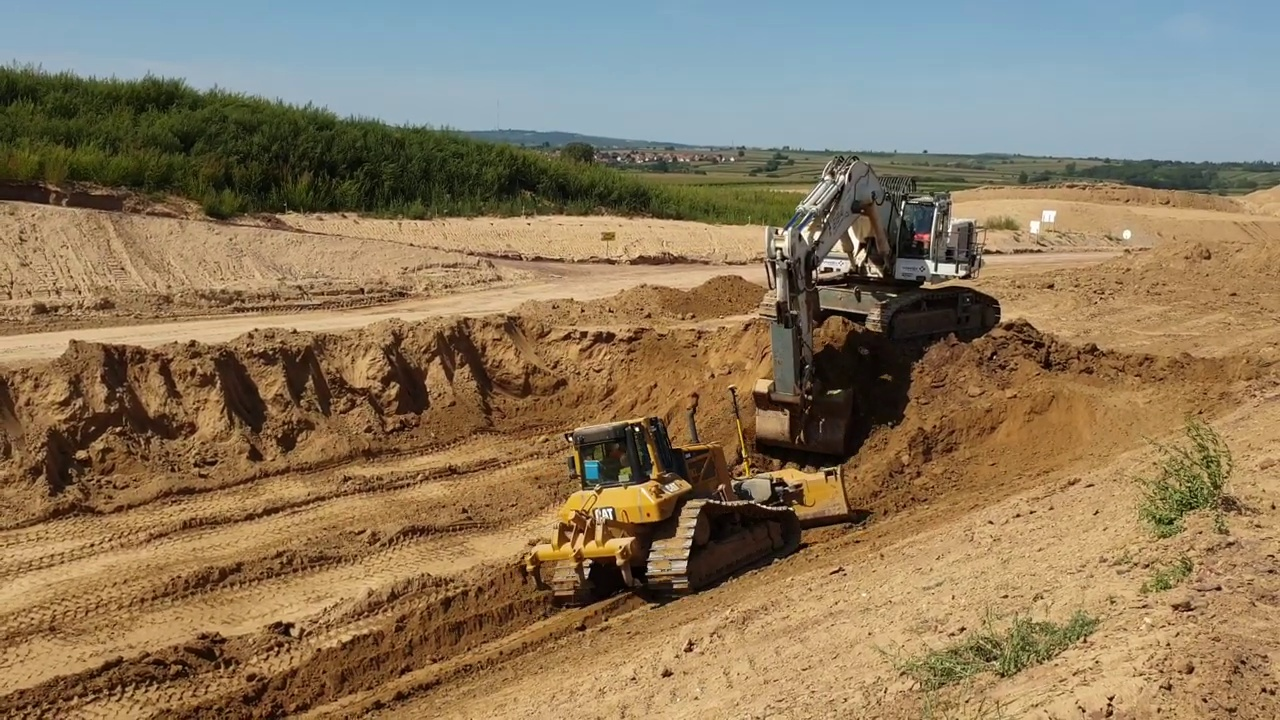bulldozer: (523, 382, 864, 609)
excavator: (747, 148, 998, 459)
